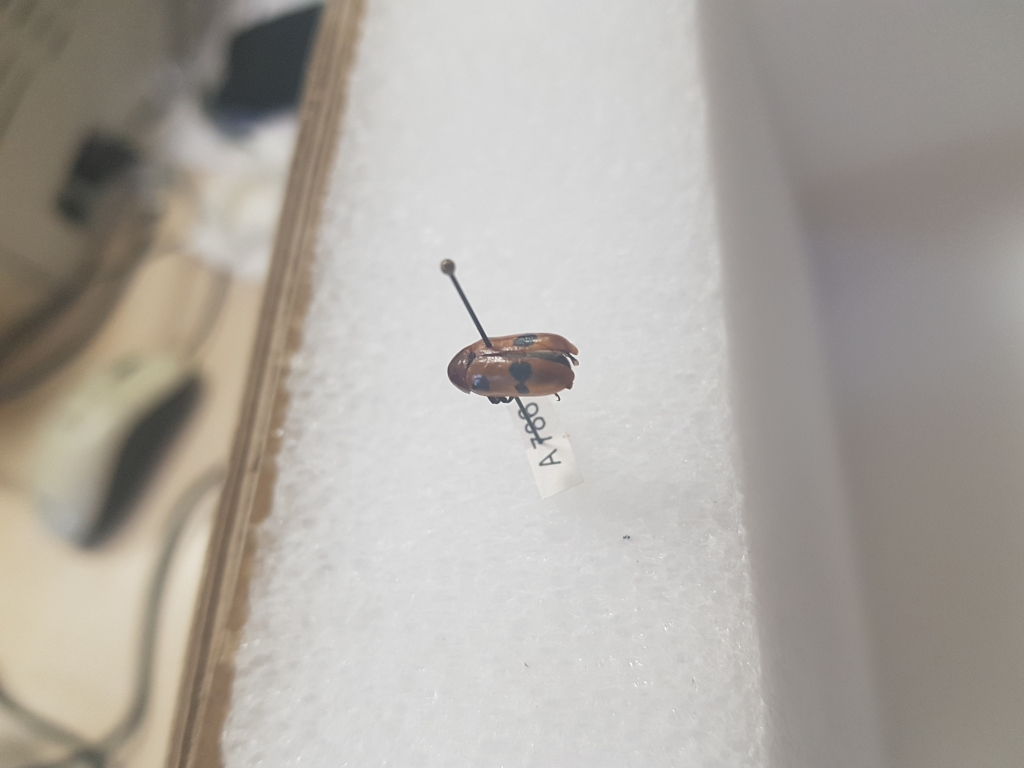Clytra_novempunctata: (446, 329, 584, 408)
